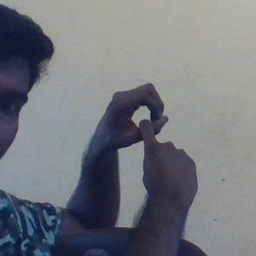Q: (91, 83, 202, 194)
